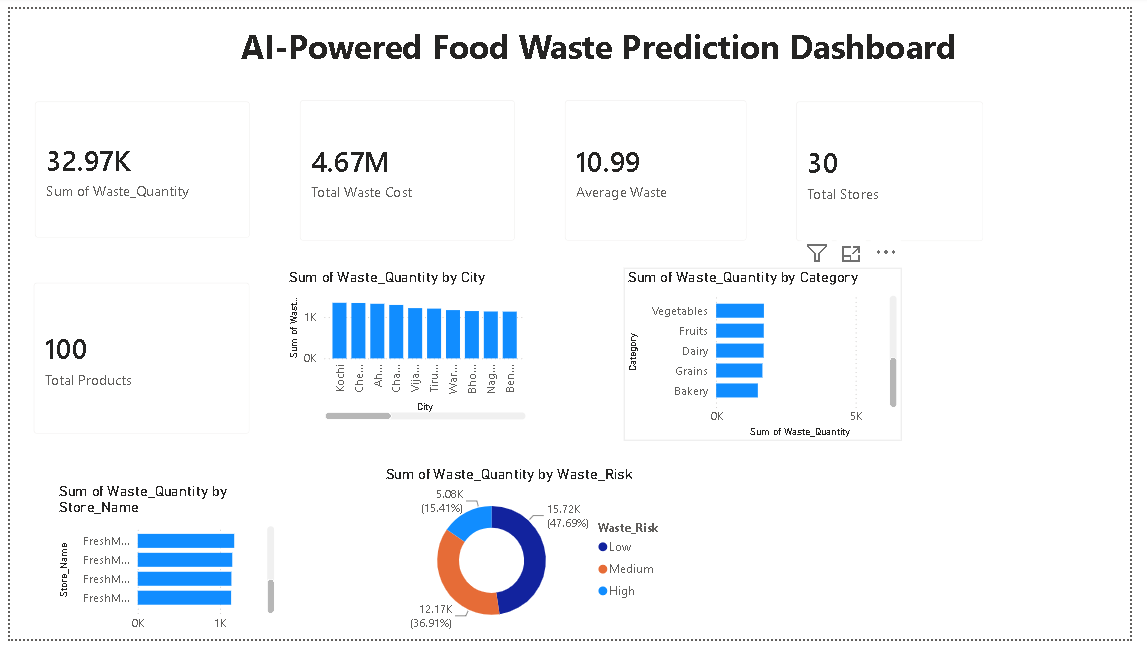

What the dashboard file says about the page in this screenshot:
{"tool":"powerbi","page":{"name":"Page 1","canvas":[1280,720],"ordinal":0},"visuals":[{"type":"cardVisual","title":"Total Waste Quantity","fields":{"Data":["Sum(food_waste_feature_engineered.Waste_Quantity)"]},"box":[11.4,88.6,280,190],"z":0},{"type":"cardVisual","fields":{"Data":["food_waste_feature_engineered.Total Waste Cost"]},"box":[314.3,87.1,280,195.7],"z":1},{"type":"cardVisual","fields":{"Data":["food_waste_feature_engineered.Average Waste"]},"box":[617.1,87.1,242.9,195.7],"z":2},{"type":"cardVisual","title":"Total Stores","fields":{"Data":["food_waste_feature_engineered.Total Stores"]},"box":[881.4,88.6,248.6,194.3],"z":3},{"type":"cardVisual","fields":{"Data":["food_waste_feature_engineered.Total Products"]},"box":[10,295.7,281.4,207.1],"z":4},{"type":"clusteredBarChart","fields":{"Category":["food_waste_feature_engineered.Category"],"Y":["Sum(food_waste_feature_engineered.Waste_Quantity)"]},"box":[701.4,295.7,317.1,198.6],"z":5},{"type":"clusteredBarChart","fields":{"Category":["food_waste_feature_engineered.Store_Name"],"Y":["Sum(food_waste_feature_engineered.Waste_Quantity)"]},"box":[51.4,540,255.7,180],"z":6},{"type":"clusteredColumnChart","fields":{"Category":["food_waste_feature_engineered.City"],"Y":["Sum(food_waste_feature_engineered.Waste_Quantity)"]},"box":[314.3,295.7,280,178.6],"z":7},{"type":"donutChart","fields":{"Category":["food_waste_feature_engineered.Waste_Risk"],"Y":["Sum(food_waste_feature_engineered.Waste_Quantity)"]},"box":[424.3,521.4,338.6,198.6],"z":8},{"type":"textbox","box":[51.4,12.9,1115.7,75.7],"z":15}]}

Visuals, with their boxes in screenshot pixels (x1, y1, x2, y2), scaled from the page's 1280x720 canvas onto the 1147x652 screenshot:
"Total Waste Quantity" cardVisual: bbox=[10, 80, 261, 252]
cardVisual - food_waste_feature_engineered.Total Waste Cost: bbox=[282, 79, 533, 256]
cardVisual - food_waste_feature_engineered.Average Waste: bbox=[553, 79, 771, 256]
"Total Stores" cardVisual: bbox=[790, 80, 1013, 256]
cardVisual - food_waste_feature_engineered.Total Products: bbox=[9, 268, 261, 455]
clusteredBarChart - food_waste_feature_engineered.Category x Sum(food_waste_feature_engineered.Waste_Quantity): bbox=[629, 268, 913, 448]
clusteredBarChart - food_waste_feature_engineered.Store_Name x Sum(food_waste_feature_engineered.Waste_Quantity): bbox=[46, 489, 275, 651]
clusteredColumnChart - food_waste_feature_engineered.City x Sum(food_waste_feature_engineered.Waste_Quantity): bbox=[282, 268, 533, 430]
donutChart - food_waste_feature_engineered.Waste_Risk x Sum(food_waste_feature_engineered.Waste_Quantity): bbox=[380, 472, 684, 651]
textbox: bbox=[46, 12, 1046, 80]
